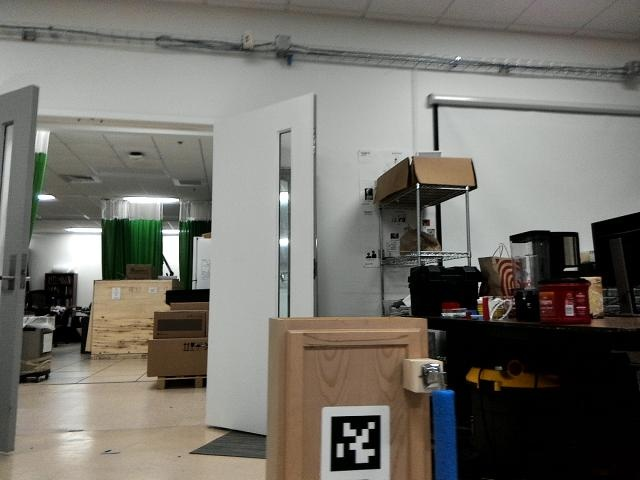noodle_handle: (427, 384, 460, 480)
